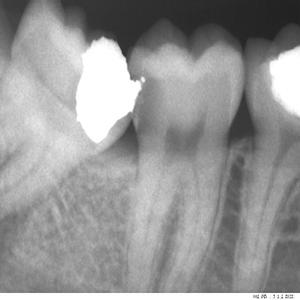tooth: (129, 31, 248, 274), (0, 0, 130, 217), (239, 23, 299, 276)
